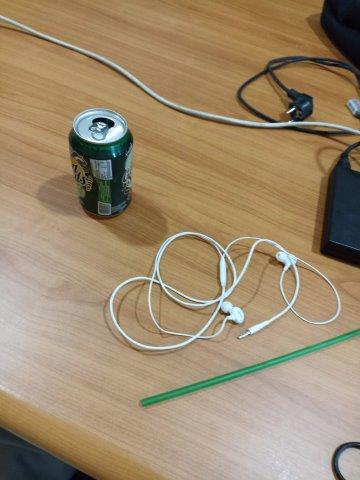kaleng: (68, 108, 134, 220)
